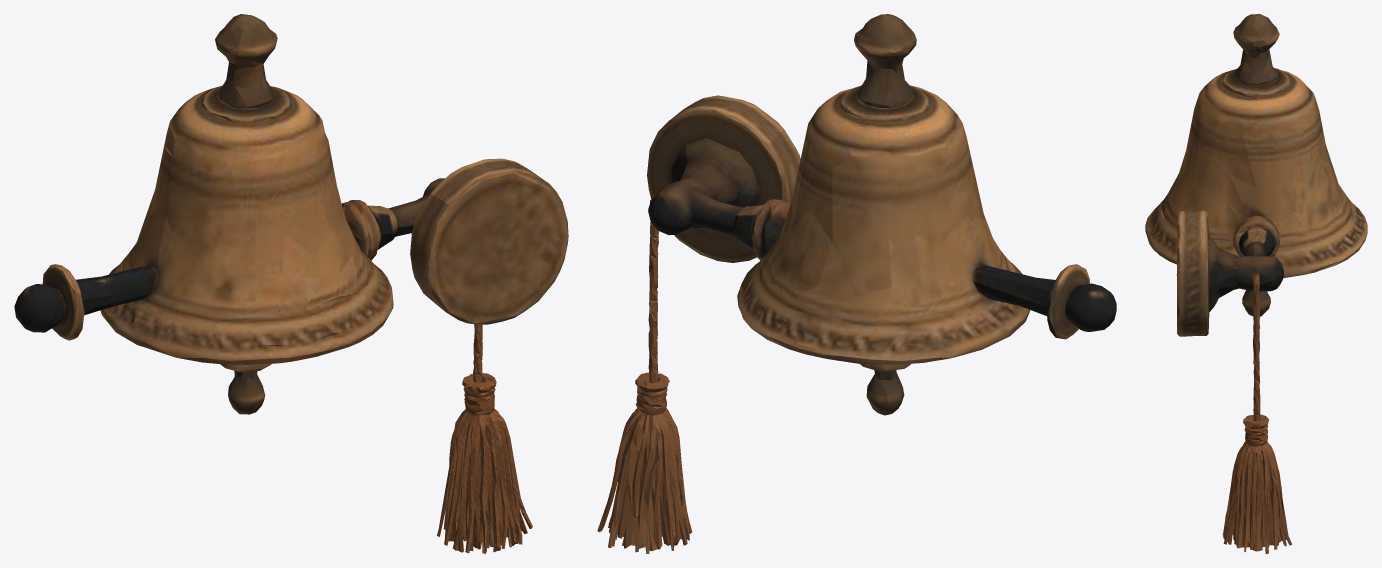
File: bell.glb
The picture shows the model from 3 angles, left to right: view 1: azimuth 30°, elevation 25°; view 2: azimuth 150°, elevation 25°; view 3: azimuth 270°, elevation 25°; orthographic projection. The views are drawn at different scales.
Bounding box in the file's own units: 1.74 × 1.9 × 0.8743.
1 material, 1 textured.
